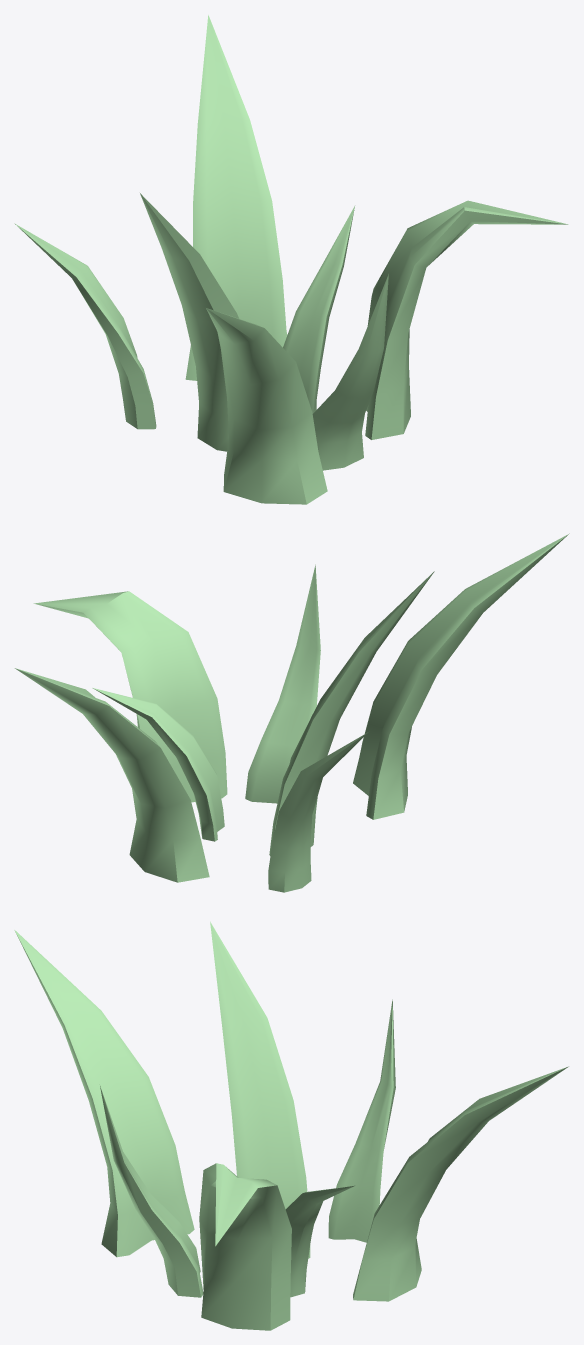
The model's file is grass.fbx.
3 renders of one model, top to bottom at view 1: azimuth 30°, elevation 25°; view 2: azimuth 150°, elevation 25°; view 3: azimuth 270°, elevation 25°, orthographic. The views are drawn at different scales.
Parts seen in each view (by area): view 1: Circle.005; view 2: Circle.005; view 3: Circle.005.
Part boxes in pixels (left/top/right/bottom): Circle.005: left=14, top=15, right=568, bottom=504; Circle.005: left=14, top=533, right=569, bottom=892; Circle.005: left=14, top=921, right=568, bottom=1330.
Size of the model in its own units: 98.21 by 60.17 by 108.
